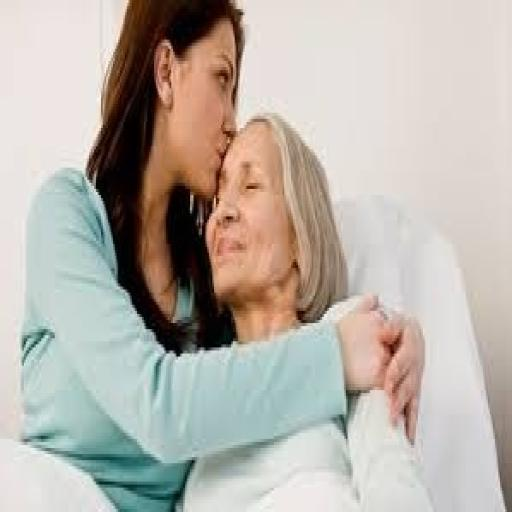hugging: (17, 0, 428, 509)
